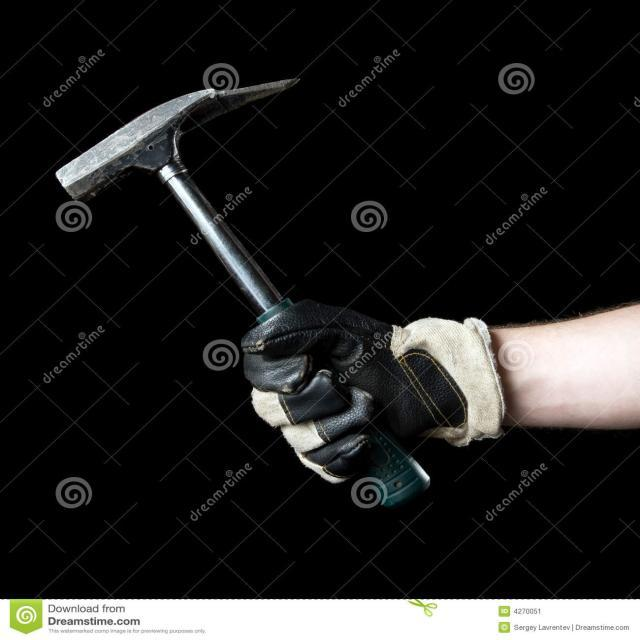hammer: (51, 66, 438, 516)
